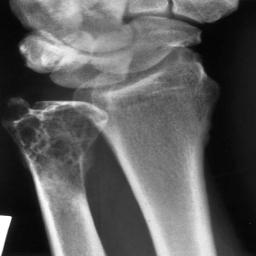cancer: (14, 113, 98, 180)
